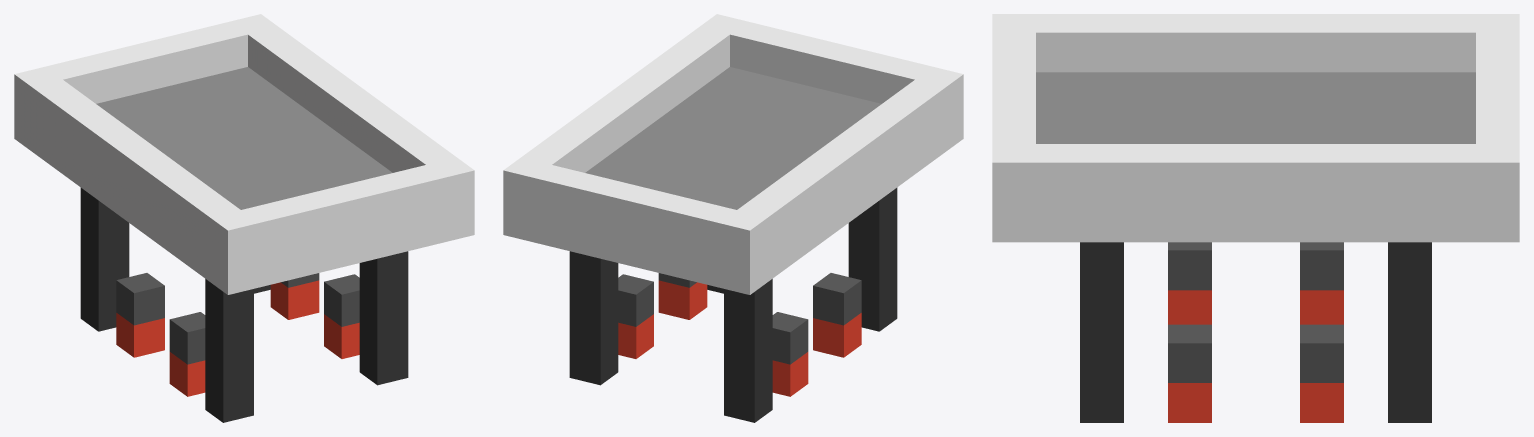
File: gasStation.obj
3 views of the same model, side by side, from view 1: azimuth 30°, elevation 25°; view 2: azimuth 150°, elevation 25°; view 3: azimuth 270°, elevation 25° (orthographic). The views are drawn at different scales.
Size of the model in its own units: 0.8 by 0.7 by 1.2.
1 material, 1 textured.
